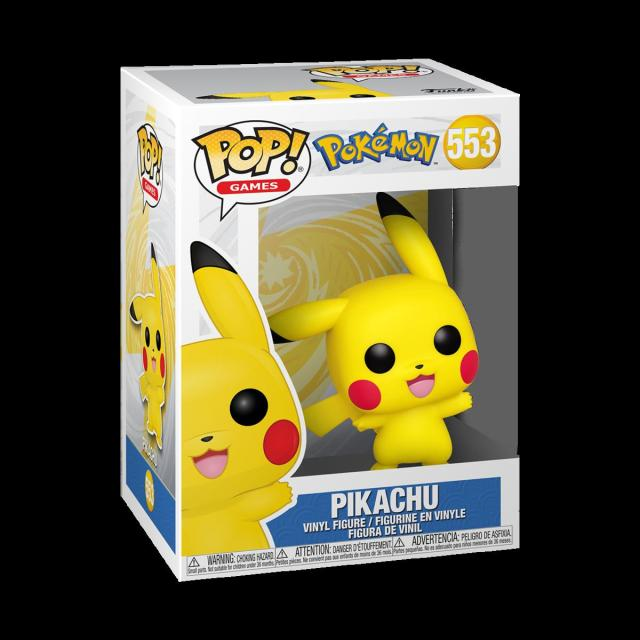pikachu: (267, 191, 479, 468), (182, 243, 305, 556), (131, 246, 168, 449)
